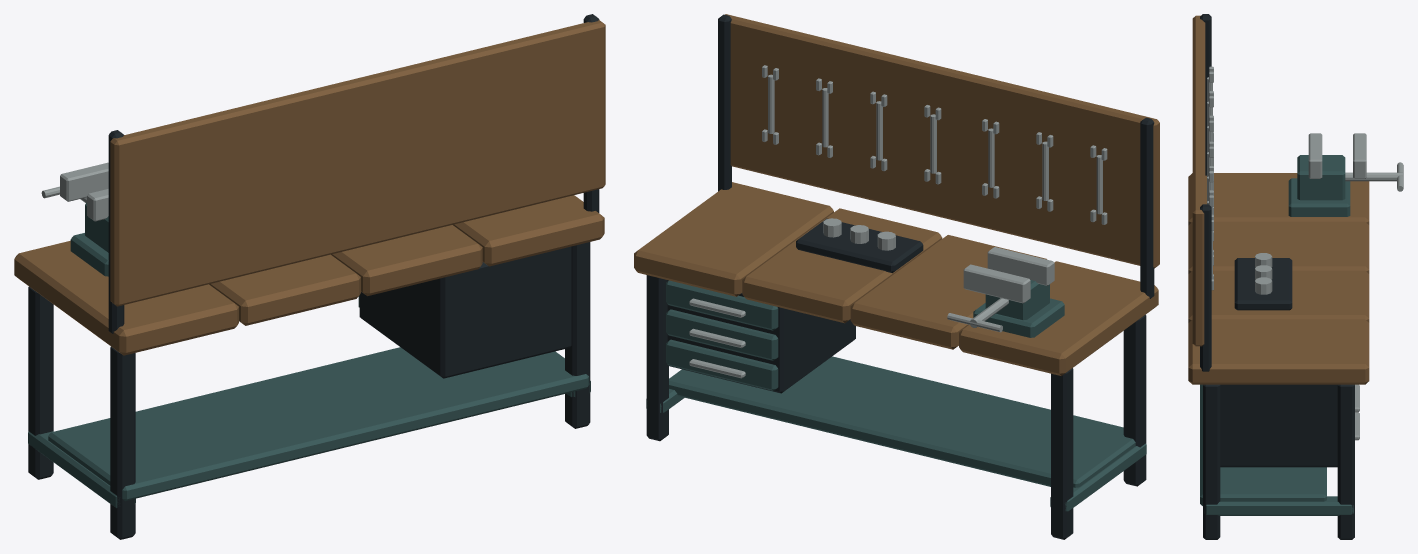
Rendered from service-bench-DgLW8KFh.glb.
3 renders of one model, left to right at view 1: azimuth 30°, elevation 25°; view 2: azimuth 150°, elevation 25°; view 3: azimuth 270°, elevation 25°, orthographic. The views are drawn at different scales.
Visible parts, largest first — view 1: steel leg; view 2: steel leg; view 3: steel leg.
Part boxes in pixels (x1=…): steel leg: x1=14, y1=14, x2=605, y2=539; steel leg: x1=634, y1=14, x2=1159, y2=539; steel leg: x1=1188, y1=14, x2=1403, y2=539.
Bounding box in the file's own units: 2.42 × 1.93 × 1.12.
